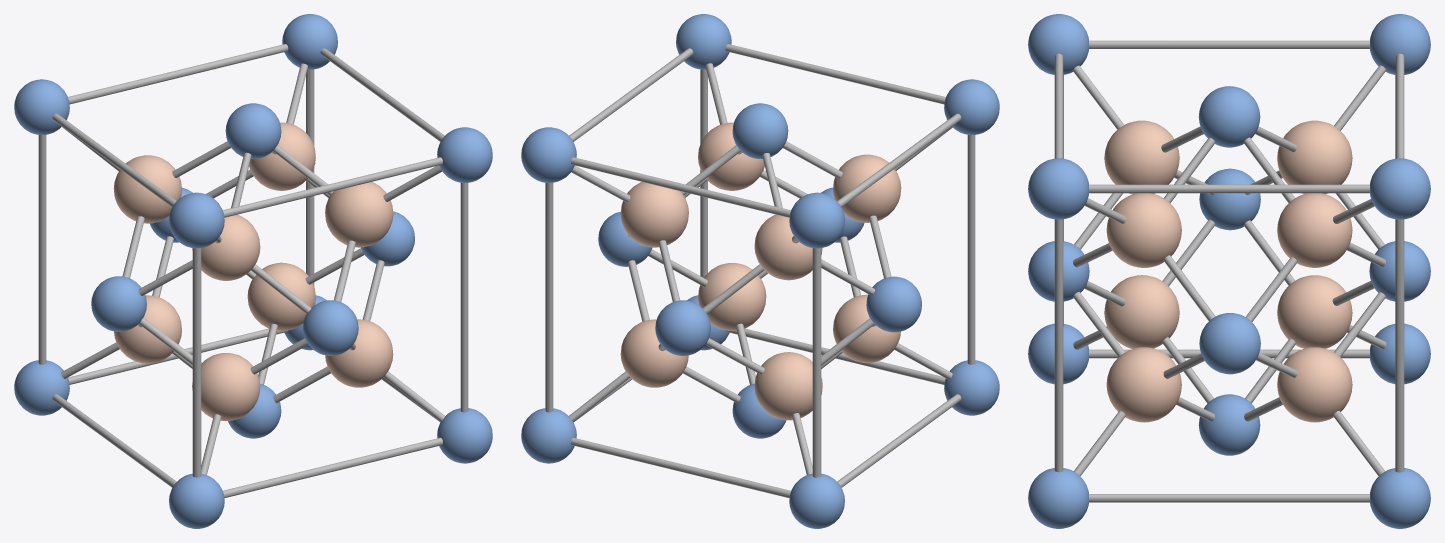
Rendered from index.gltf.
3 views of the same model, side by side, from view 1: azimuth 30°, elevation 25°; view 2: azimuth 150°, elevation 25°; view 3: azimuth 270°, elevation 25° (orthographic). The views are drawn at different scales.
Parts seen in each view (by area): view 1: node_lan037_-14874, node_lan034_-14868, node_lan036_-14872, node_lan033_-14866, node_lan035_-14870, node_lan038_-14876, node_lan039_-14878, node_lan032_-14864, node_lv053_-14902, node_lv045_-14886, node_lv054_-14904, node_lv049_-14894 (+22 smaller); view 2: node_lan032_-14864, node_lan039_-14878, node_lan038_-14876, node_lan035_-14870, node_lan036_-14872, node_lan033_-14866, node_lan037_-14874, node_lan034_-14868, node_lv051_-14898, node_lv047_-14890, node_lv055_-14906, node_lv052_-14900 (+22 smaller); view 3: node_lan035_-14870, node_lan036_-14872, node_lan037_-14874, node_lan032_-14864, node_lan039_-14878, node_lan034_-14868, node_lan038_-14876, node_lan033_-14866, node_lv044_-14884, node_lv049_-14894, node_lv042_-14880, node_lv046_-14888 (+35 smaller).
Part boxes in pixels (x1,y1,x2,y2): node_lan037_-14874: (325, 182, 393, 247); node_lan034_-14868: (192, 353, 260, 421); node_lan036_-14872: (247, 262, 315, 330); node_lan033_-14866: (113, 155, 181, 223); node_lan035_-14870: (325, 319, 393, 387); node_lan038_-14876: (192, 214, 260, 280); node_lan039_-14878: (114, 295, 181, 363); node_lan032_-14864: (249, 122, 315, 190); node_lv053_-14902: (169, 192, 224, 248); node_lv045_-14886: (303, 300, 358, 355); node_lv054_-14904: (169, 473, 224, 528); node_lv049_-14894: (437, 127, 492, 182); node_lan032_-14864: (620, 182, 688, 247); node_lan039_-14878: (754, 352, 822, 420); node_lan038_-14876: (833, 154, 901, 222); node_lan035_-14870: (698, 263, 766, 330); node_lan036_-14872: (620, 319, 688, 387); node_lan033_-14866: (754, 214, 822, 280); node_lan037_-14874: (698, 122, 764, 190); node_lan034_-14868: (833, 294, 900, 362); node_lv051_-14898: (789, 192, 844, 248); node_lv047_-14890: (655, 300, 710, 355); node_lv055_-14906: (866, 276, 921, 332); node_lv052_-14900: (789, 473, 844, 528); node_lan035_-14870: (1106, 347, 1181, 422); node_lan036_-14872: (1277, 347, 1352, 422); node_lan037_-14874: (1106, 193, 1181, 267); node_lan032_-14864: (1277, 193, 1352, 267); node_lan039_-14878: (1277, 275, 1352, 348); node_lan034_-14868: (1104, 275, 1179, 348); node_lan038_-14876: (1104, 120, 1179, 194); node_lan033_-14866: (1277, 120, 1352, 194); node_lv044_-14884: (1199, 313, 1260, 374); node_lv049_-14894: (1028, 158, 1088, 219); node_lv042_-14880: (1370, 158, 1430, 219); node_lv046_-14888: (1198, 86, 1260, 147).
Bounding box in the file's own units: 0.9445 × 0.9442 × 0.9445.
